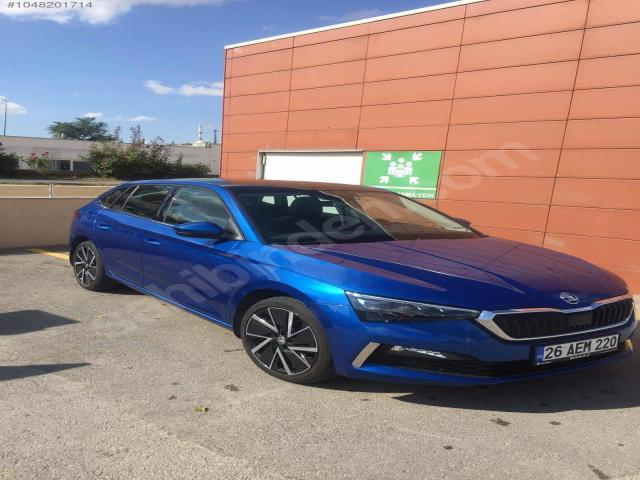plaka: (536, 334, 618, 363)
